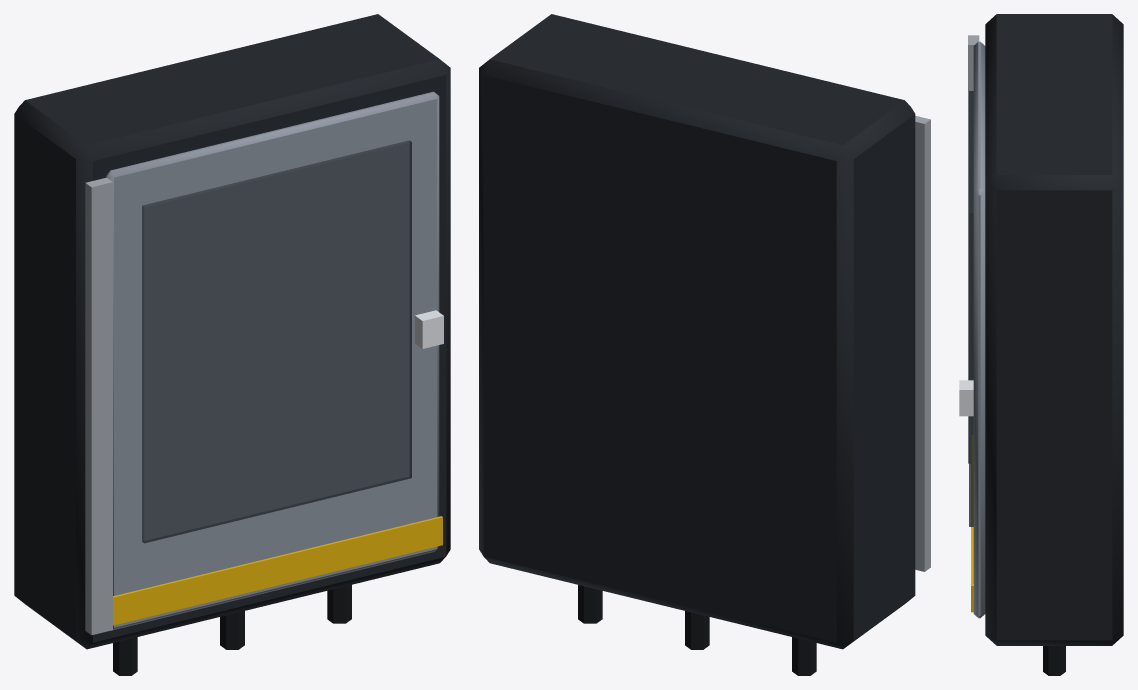
Rendered from router_wall_network_cabinet.glb.
3 views of the same model, side by side, from view 1: azimuth 30°, elevation 25°; view 2: azimuth 150°, elevation 25°; view 3: azimuth 270°, elevation 25° (orthographic). The views are drawn at different scales.
Visible parts, largest first — view 1: router_wall_network_cabinet; view 2: router_wall_network_cabinet; view 3: router_wall_network_cabinet.
Part boxes in pixels (bbox=[...]): router_wall_network_cabinet: bbox=[14, 14, 450, 675]; router_wall_network_cabinet: bbox=[479, 14, 930, 675]; router_wall_network_cabinet: bbox=[959, 14, 1123, 675].
Bounding box in the file's own units: 0.7 × 1.01 × 0.285.
